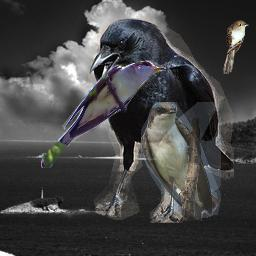Crow: (88, 18, 234, 223)
Cuckoo: (41, 60, 166, 168), (223, 20, 249, 74)
Swallow: (141, 102, 221, 222)
